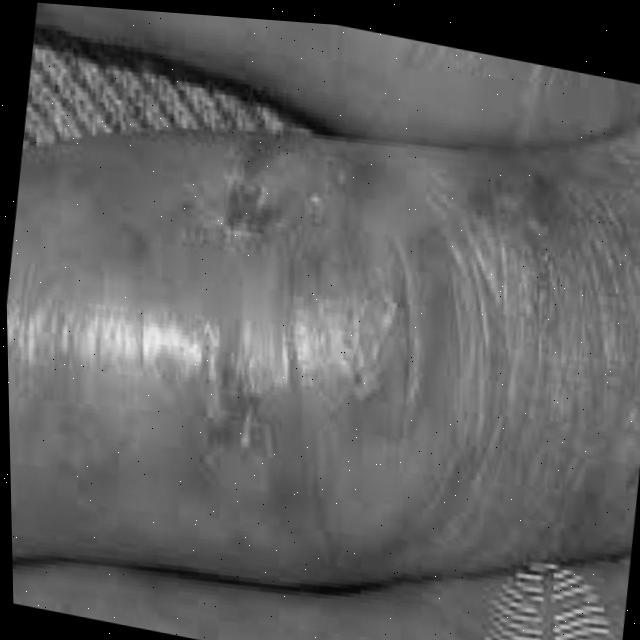Eczema: (144, 183, 506, 466)
